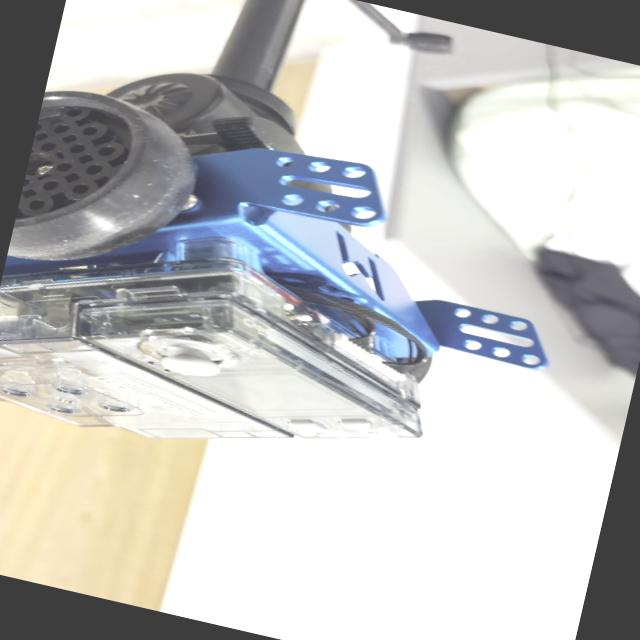mbot-detection: (0, 70, 595, 535)
